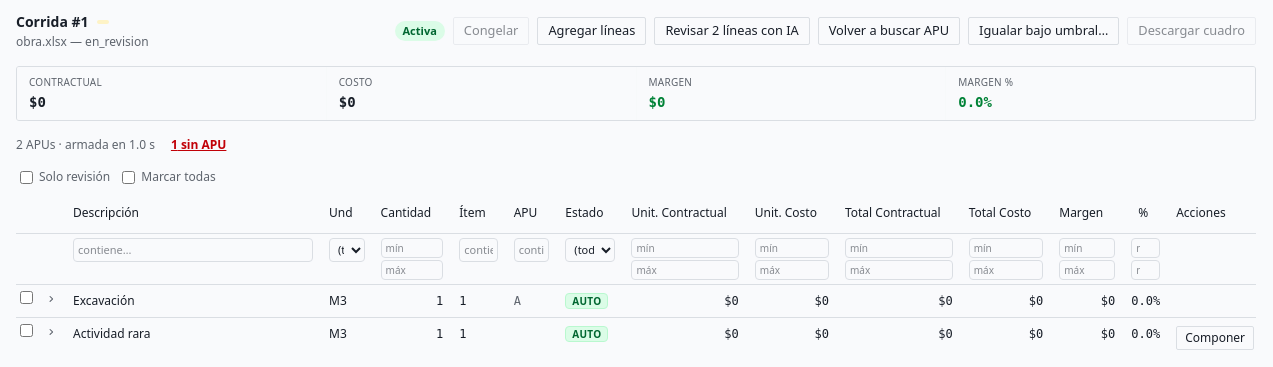
la caja de filtro de APU usa "(sin APU)" como placeholder, no como value
This screenshot has width=1273, height=367.
Expected: the text "Actividad rara" is shown, [73,324,151,342]
Click the button "1 sin APU" at {"x": 199, "y": 145}, box [171,137,226,153]
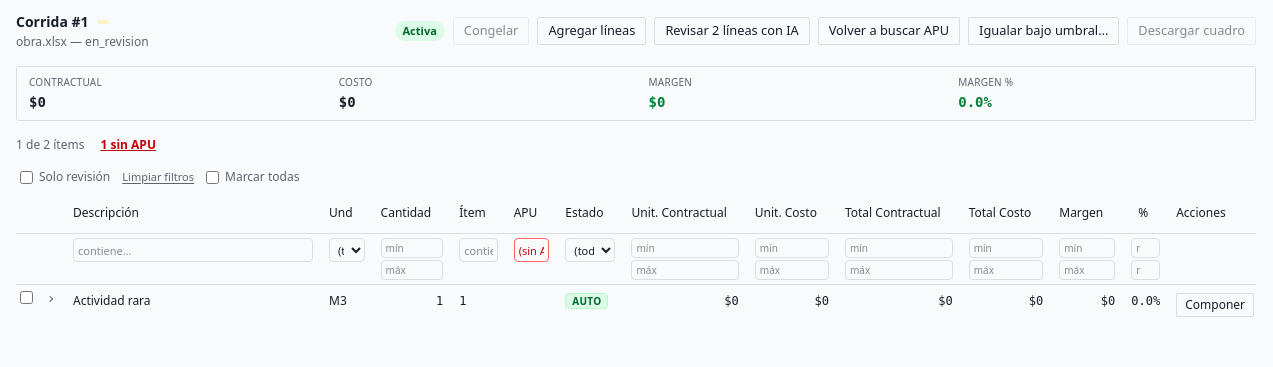
Type "APU A" into the field named "Filtrar APU" at {"x": 531, "y": 250}, box [514,238,549,262]
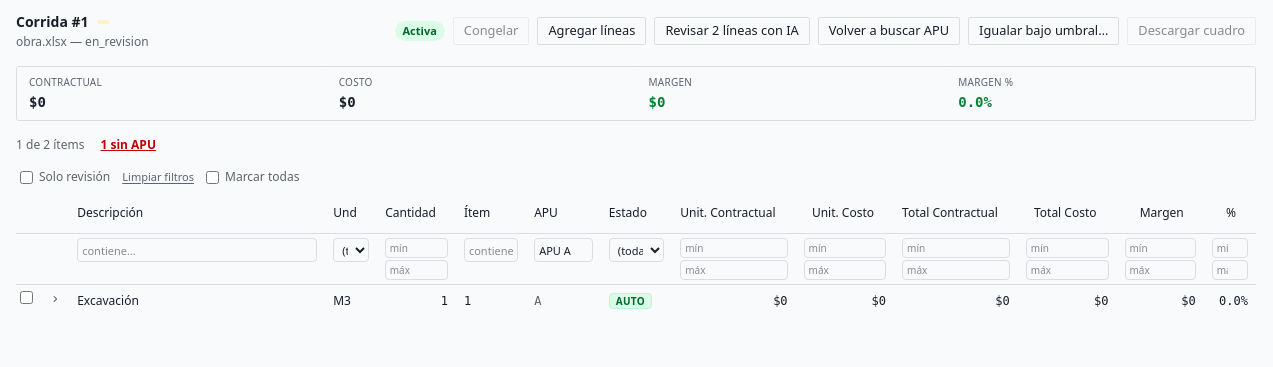
Expected: the text "Excavación" is shown, [77,292,139,309]
Expected: the text "Actividad rara" is gone
